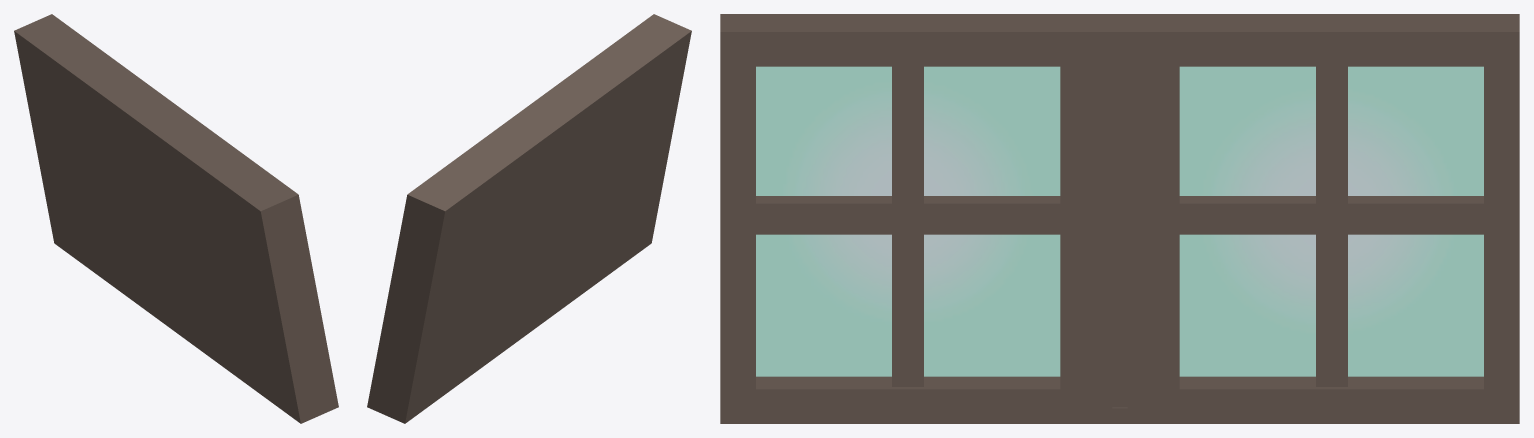
The model's file is Window_GEO.fbx.
3 views of the same model, side by side, from view 1: azimuth 30°, elevation 25°; view 2: azimuth 150°, elevation 25°; view 3: azimuth 270°, elevation 25° (orthographic). The views are drawn at different scales.
Visible parts, largest first — view 1: Window_GEO; view 2: Window_GEO; view 3: Window_GEO.
Part boxes in pixels (<box>): Window_GEO: <box>14,14,338,423</box>; Window_GEO: <box>367,14,691,423</box>; Window_GEO: <box>720,14,1519,423</box>.
Size of the model in its own units: 72.33 by 395 by 203.
1 material, 1 textured.
